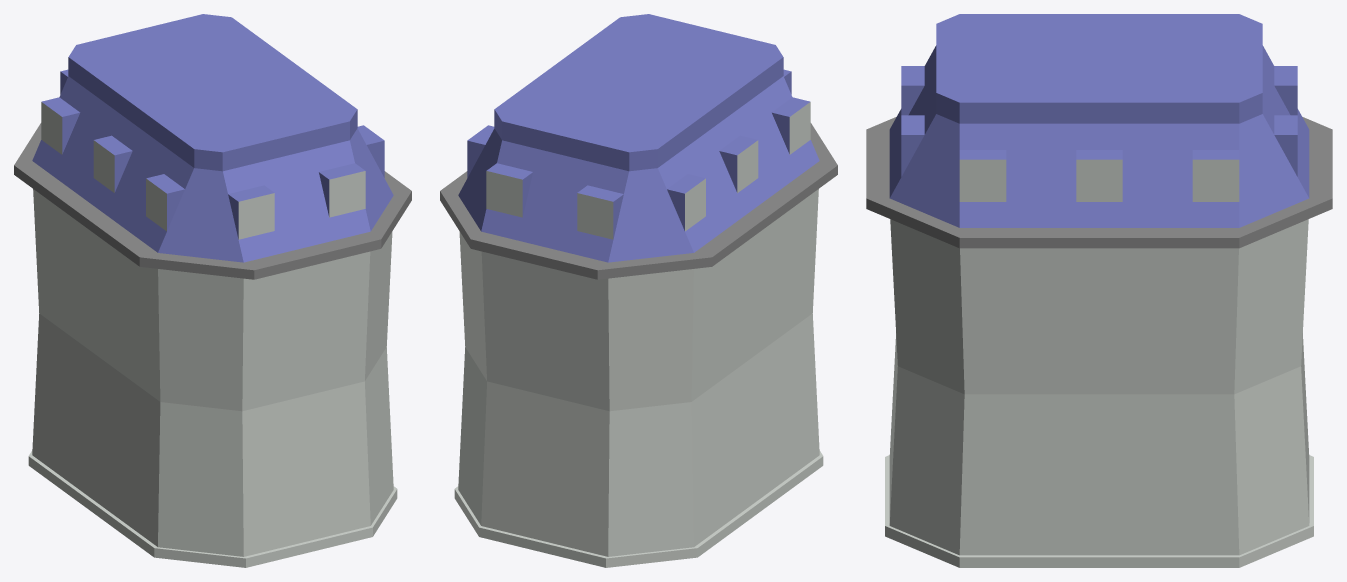
Rendered from p-rooftest.fbx.
3 renders of one model, left to right at view 1: azimuth 30°, elevation 25°; view 2: azimuth 150°, elevation 25°; view 3: azimuth 270°, elevation 25°, orthographic. The views are drawn at different scales.
Visible parts, largest first — view 1: Cube-col; view 2: Cube-col; view 3: Cube-col.
Boxes of the visible parts, x1,y1,x2,y2 form: Cube-col: (14,14,411,567); Cube-col: (440,14,837,567); Cube-col: (866,14,1332,567).
Bounding box in the file's own units: 1500 × 2100 × 2000.
